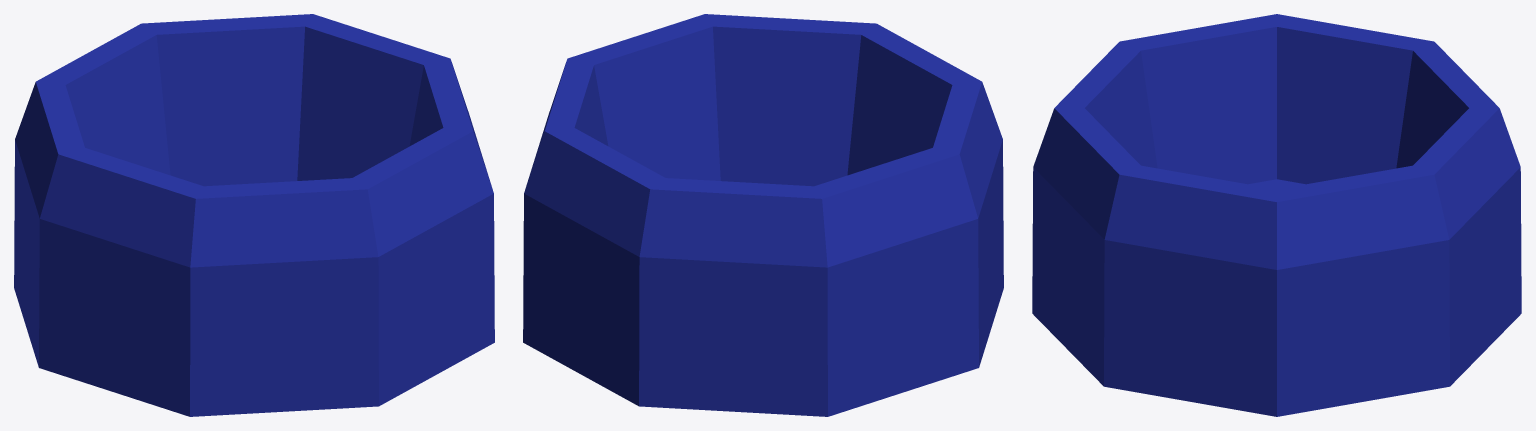
The model's file is tigela (1).fbx.
3 views of the same model, side by side, from view 1: azimuth 30°, elevation 25°; view 2: azimuth 150°, elevation 25°; view 3: azimuth 270°, elevation 25° (orthographic).
Parts seen in each view (by area): view 1: Cylinder.001; view 2: Cylinder.001; view 3: Cylinder.001.
Part boxes in pixels (<box>): Cylinder.001: <box>14,14,494,416</box>; Cylinder.001: <box>523,14,1003,416</box>; Cylinder.001: <box>1032,14,1521,416</box>.
Bounding box in the file's own units: 220 × 102 × 220.
